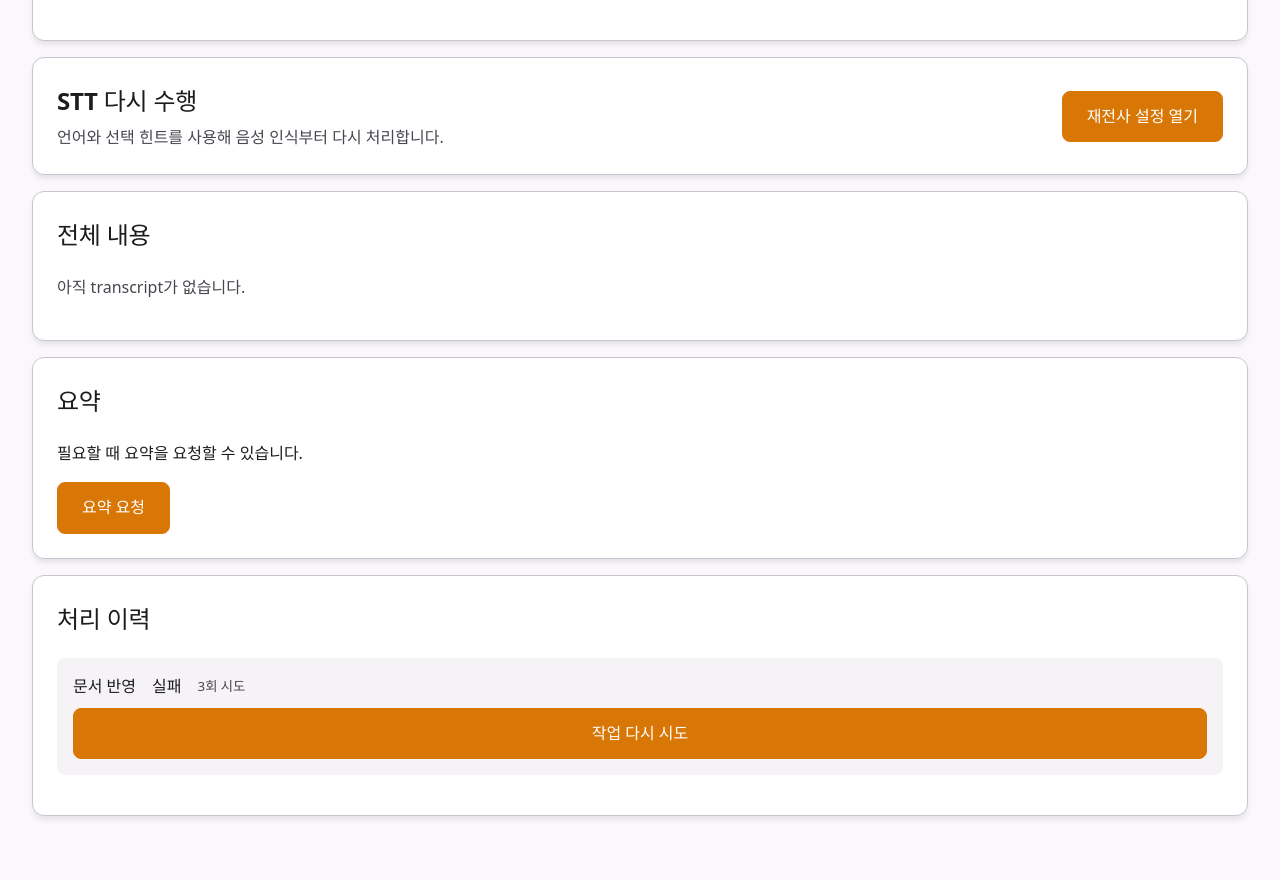
Scenario: 재시도 revision 충돌을 안내하고 최신 내용을 다시 불러온다
(page scrolled)
Click the button with aria-label "문서 반영 작업 다시 시도". click: {"x": 640, "y": 733}
box: [73,708,1207,759]
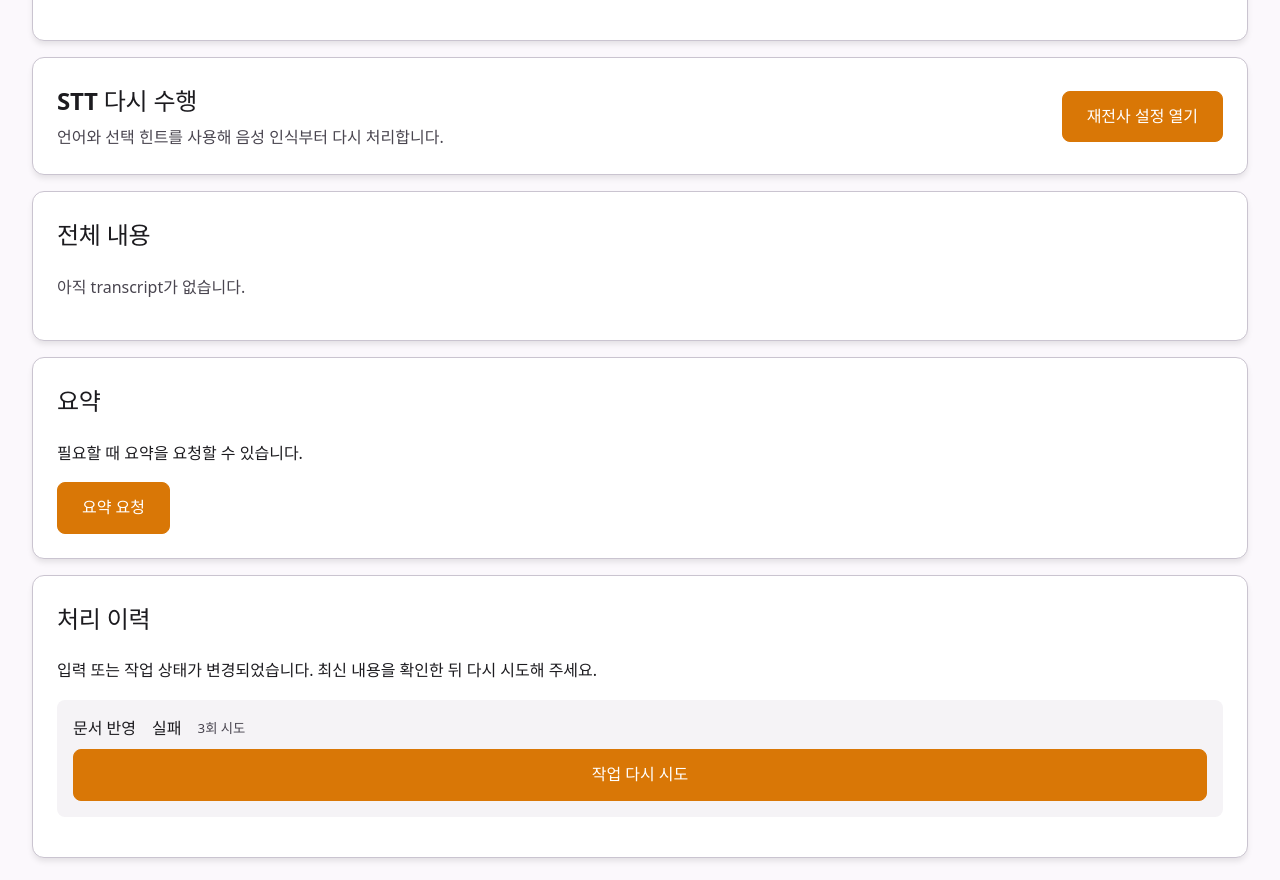
Expected: the text "입력 또는 작업 상태가 변경되었습니다. 최신 내용을 확인한 뒤 다시 시도해 주세요." is shown, [57,659,597,681]
